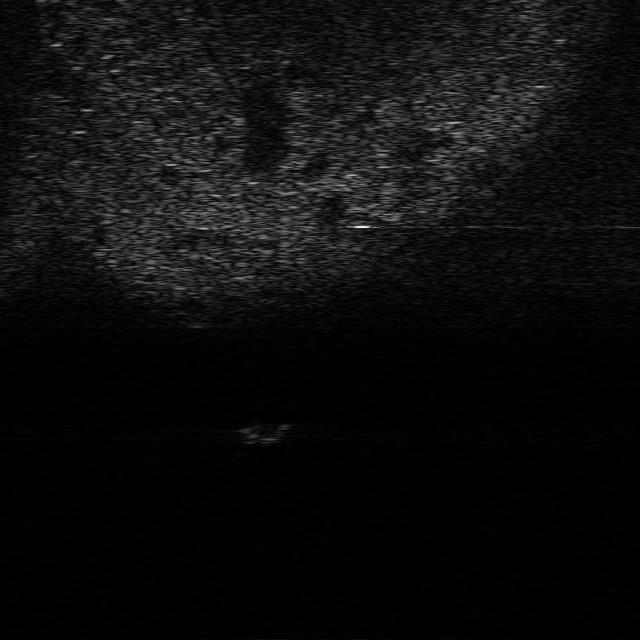cube: (240, 420, 291, 447)
